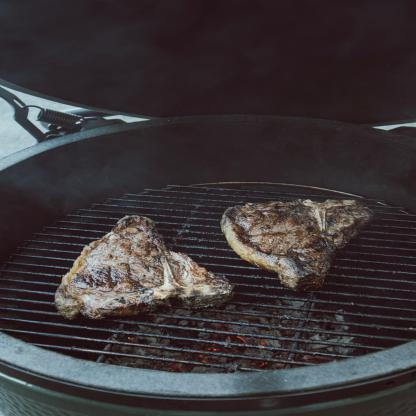Carne: (45, 215, 234, 313), (221, 201, 380, 289)
